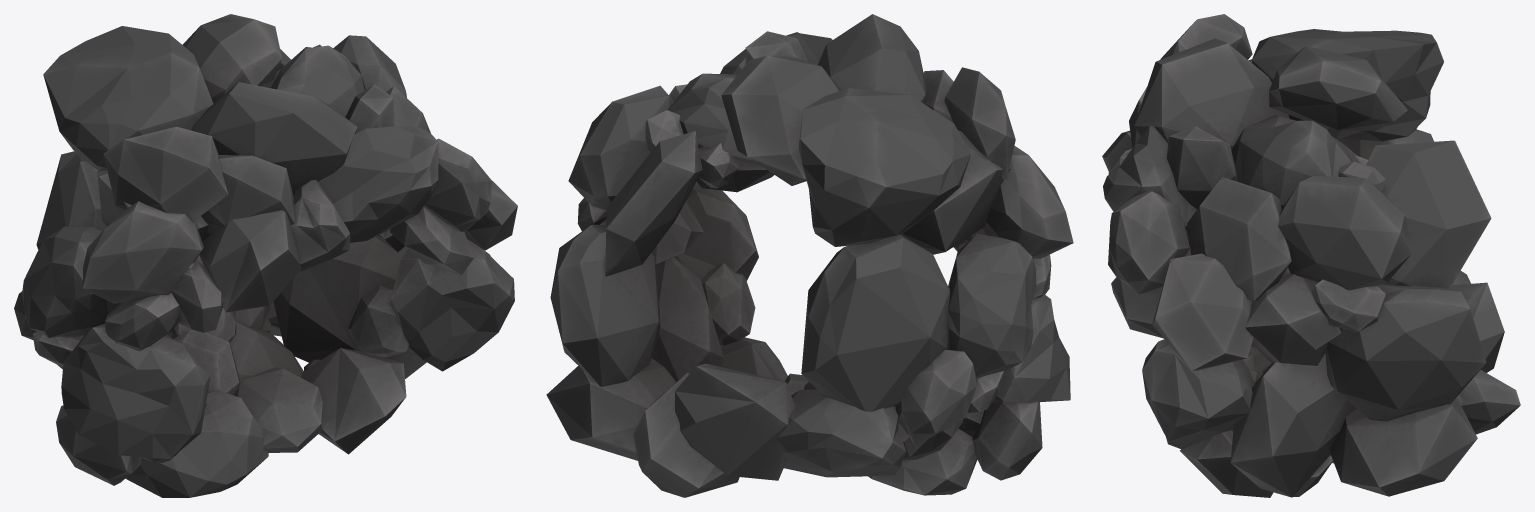
The model's file is QSnake_CaveBot.fbx.
3 renders of one model, left to right at view 1: azimuth 30°, elevation 25°; view 2: azimuth 150°, elevation 25°; view 3: azimuth 270°, elevation 25°, orthographic. The views are drawn at different scales.
Visible parts, largest first — view 1: q_snake_cave2; view 2: q_snake_cave2; view 3: q_snake_cave2.
Part boxes in pixels (x1,y1,x2,y2): q_snake_cave2: (14,14,517,497); q_snake_cave2: (546,14,1073,497); q_snake_cave2: (1102,14,1520,497).
Size of the model in its own units: 76.88 by 64.93 by 70.29.
